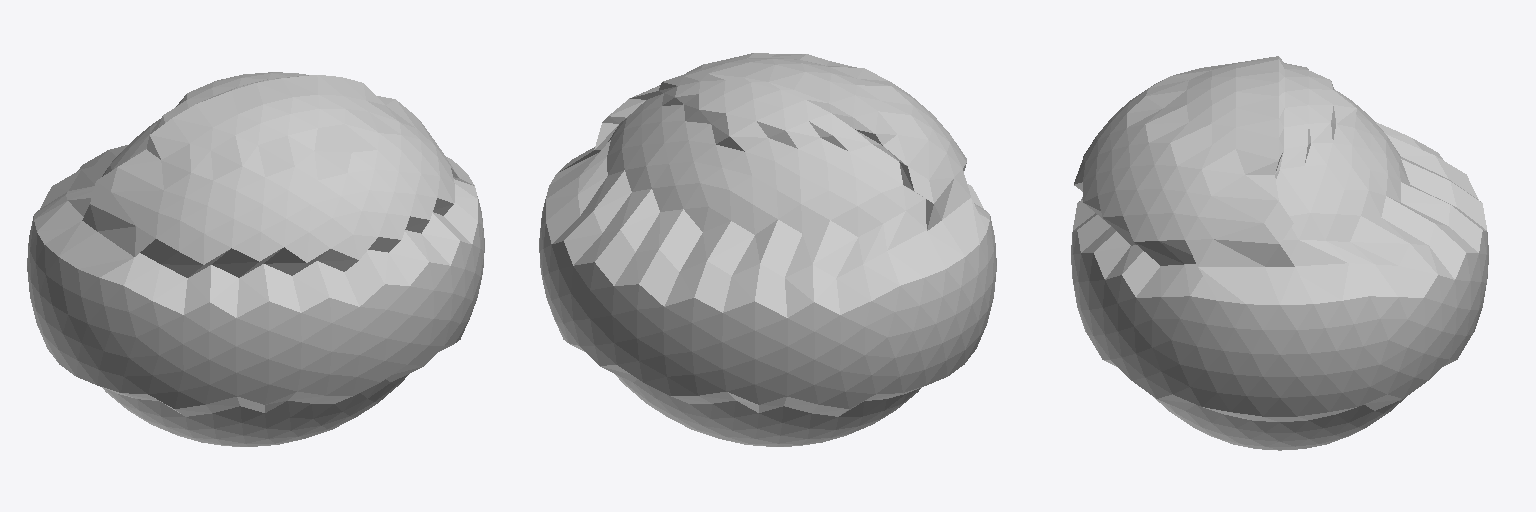
The model's file is overweight_baseline.obj.
3 renders of one model, left to right at view 1: azimuth 30°, elevation 25°; view 2: azimuth 150°, elevation 25°; view 3: azimuth 270°, elevation 25°, orthographic.
Size of the model in its own units: 2.1 by 1.71 by 1.87.